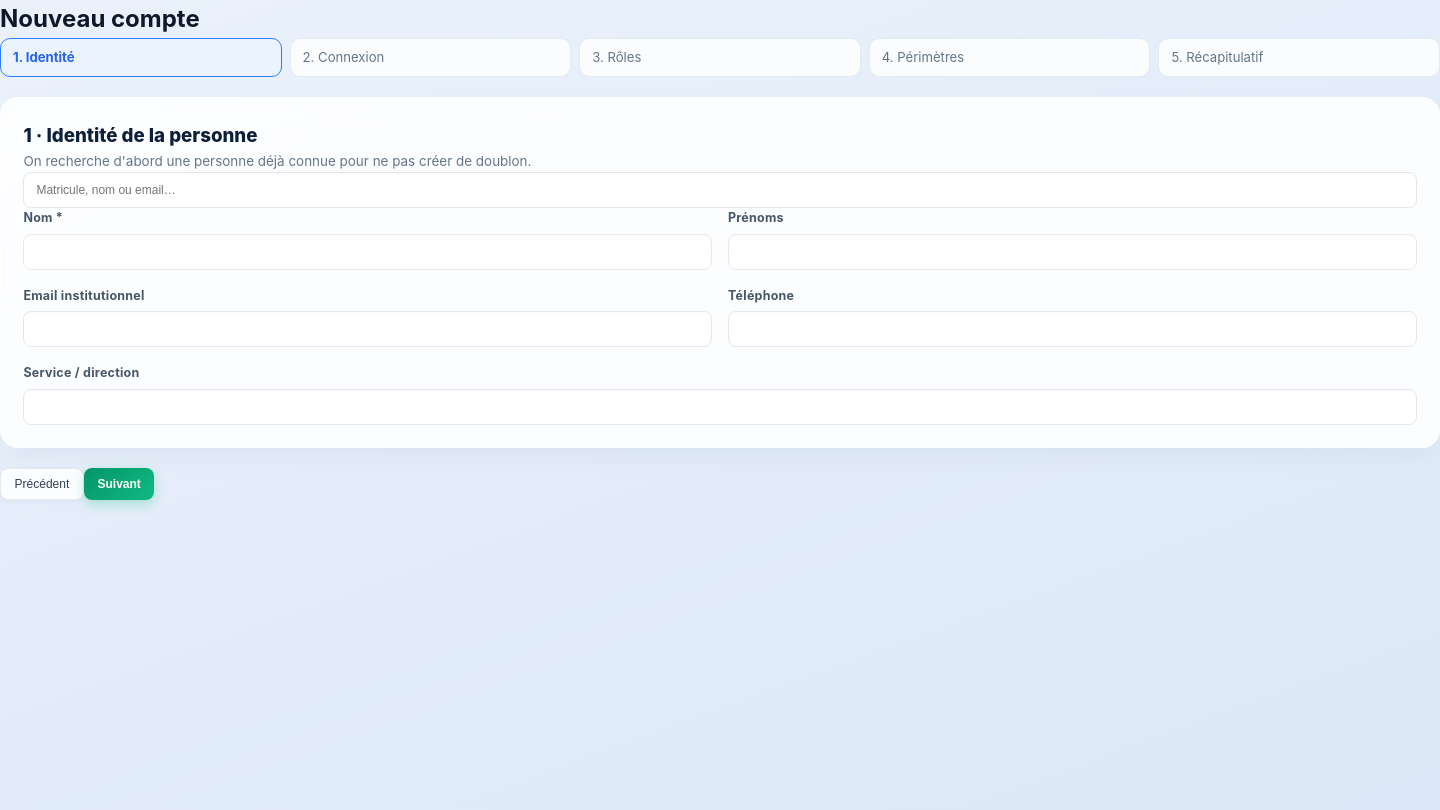
Test: AssistantCreation — 5 étapes › refuse le cumul de rôles incompatibles (séparation des tâches)
Step 1. Type "X" into the field with test id "input-nom" → (368, 252), box [23, 234, 712, 270]
Step 2. Click the button with test id "bouton-suivant" → (119, 484), box [84, 468, 154, 500]
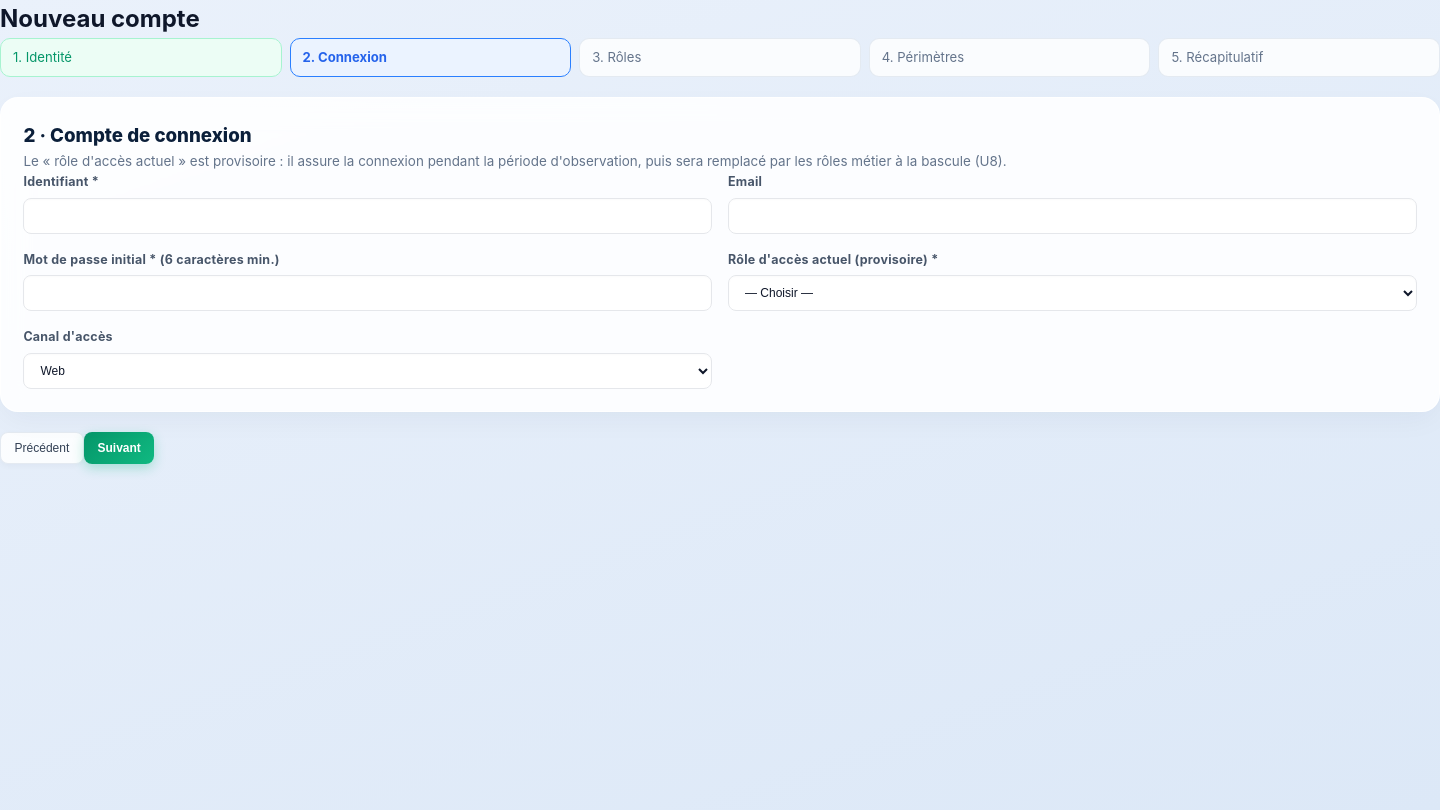
Step 3. Type "u1" into the field with test id "input-username" → (368, 216), box [23, 198, 712, 234]
Step 4. Type "secret123" into the password field with test id "input-mdp" → (368, 293), box [23, 275, 712, 311]
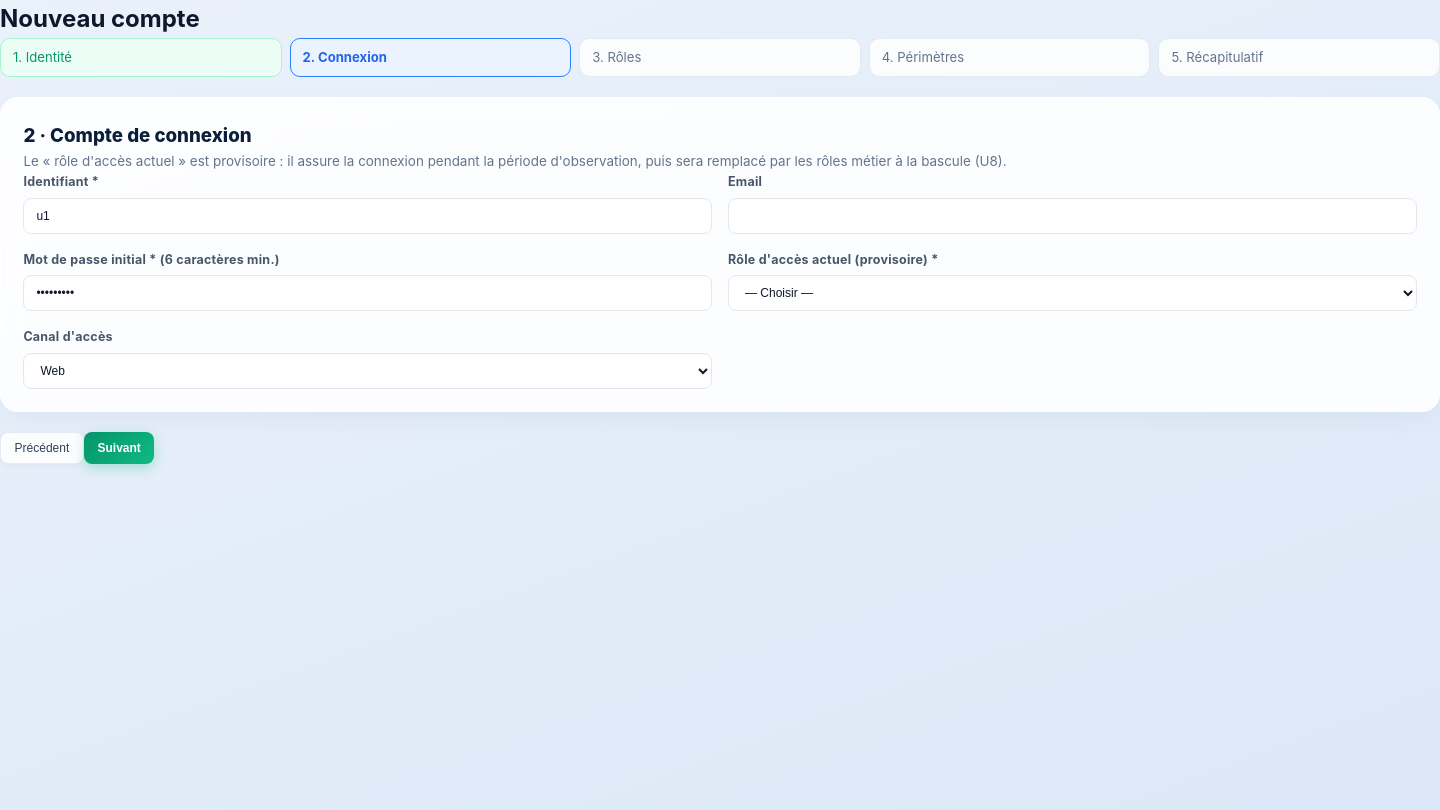
Step 5. Select "Administrateur" in the dropdown with test id "select-role-legacy" → (1072, 293), box [728, 275, 1417, 311]
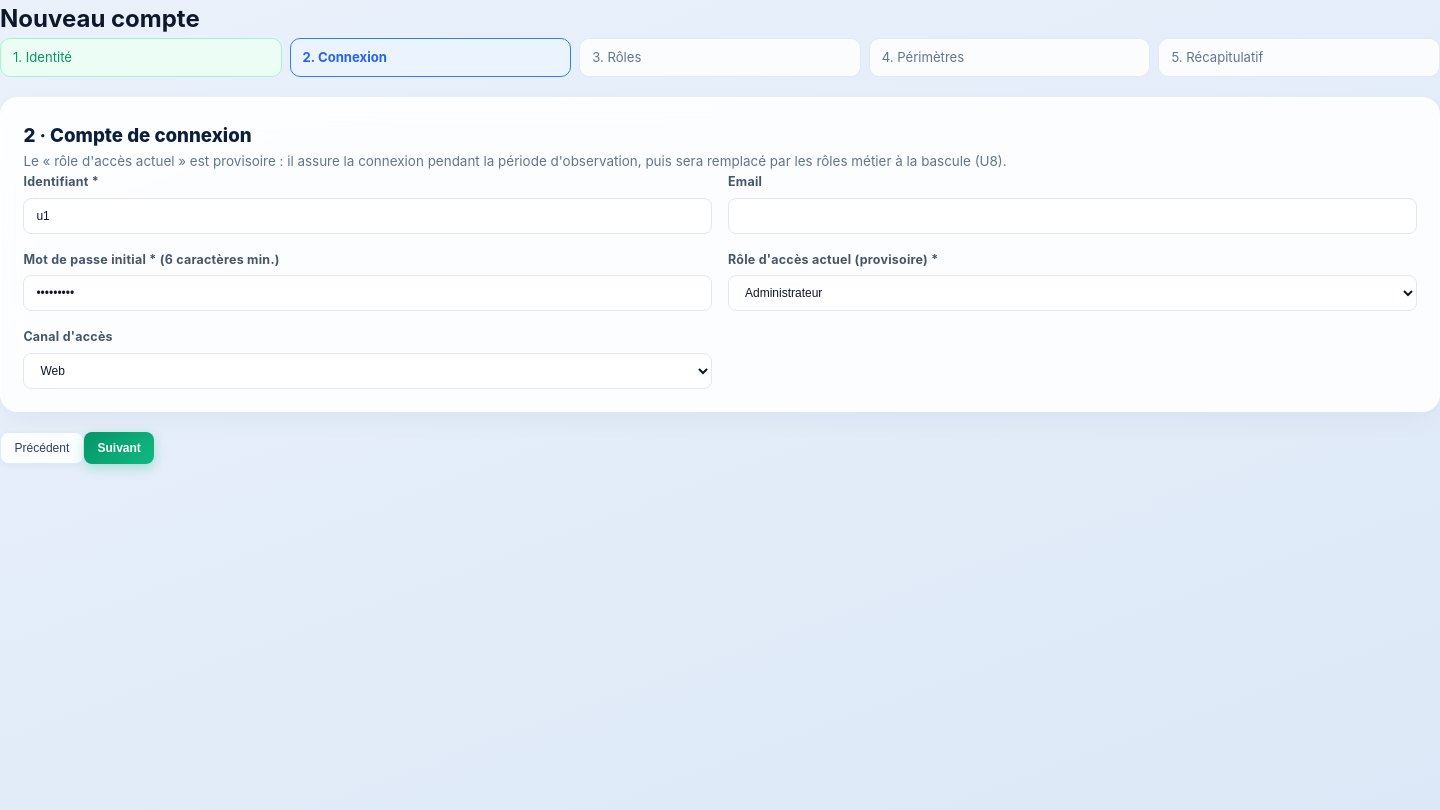
Step 6. Click the button with test id "bouton-suivant" → (119, 448), box [84, 432, 154, 464]
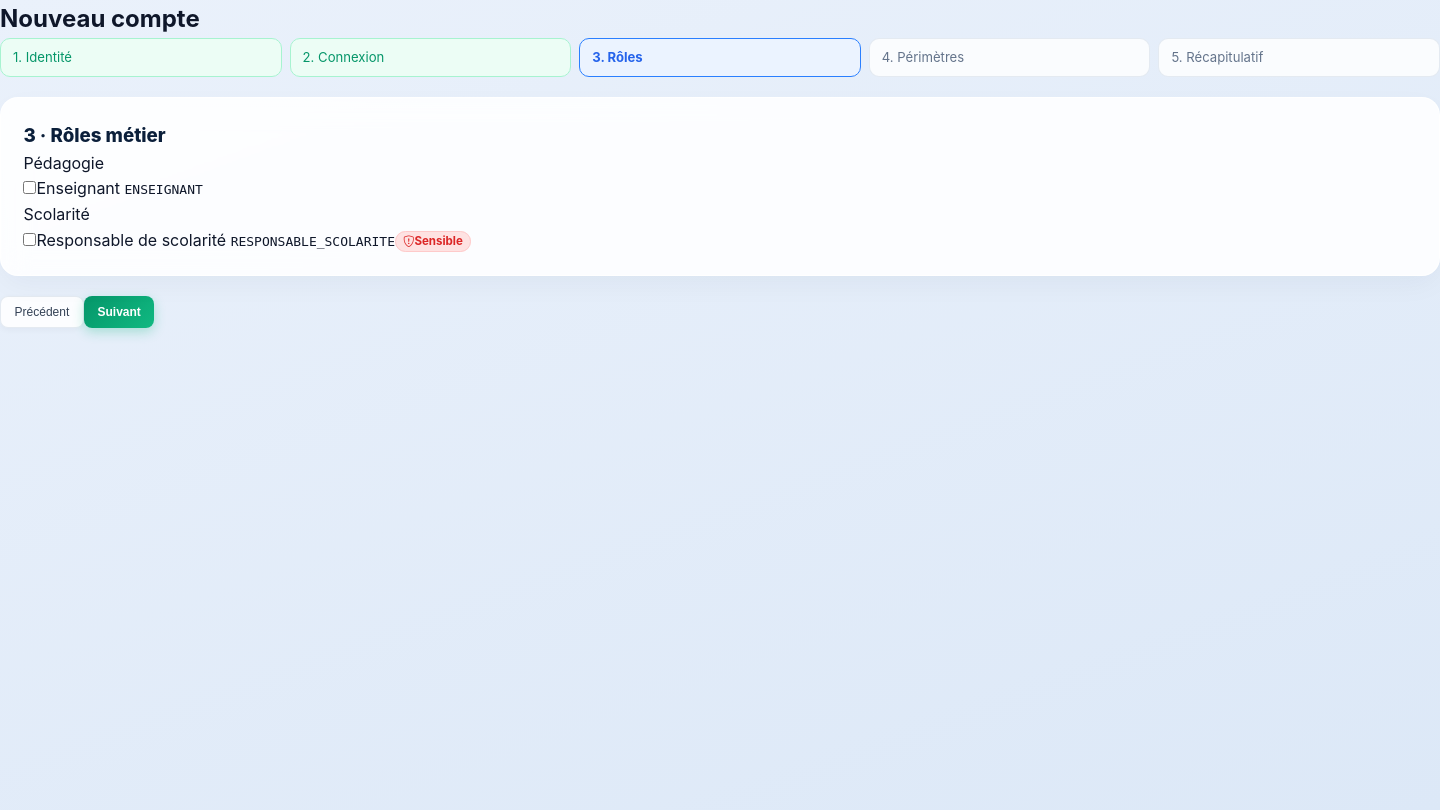
Now the element with test id "etape-roles" is shown, box [23, 124, 471, 252]
Step 7. Click the checkbox with test id "role-ENSEIGNANT" → (30, 188), box [23, 181, 36, 194]
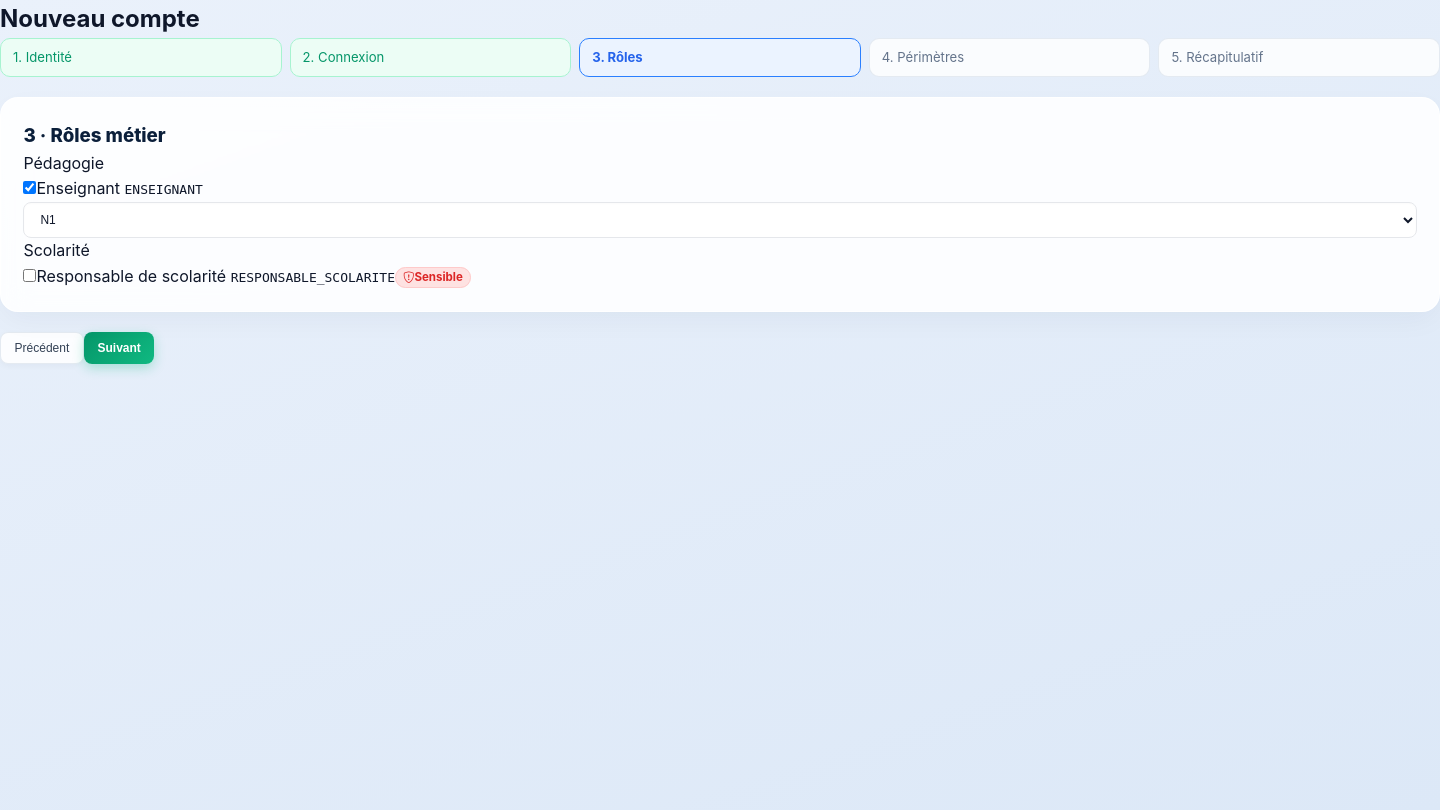
Step 8. Click the checkbox with test id "role-RESPONSABLE_SCOLARITE" → (30, 275), box [23, 268, 36, 282]
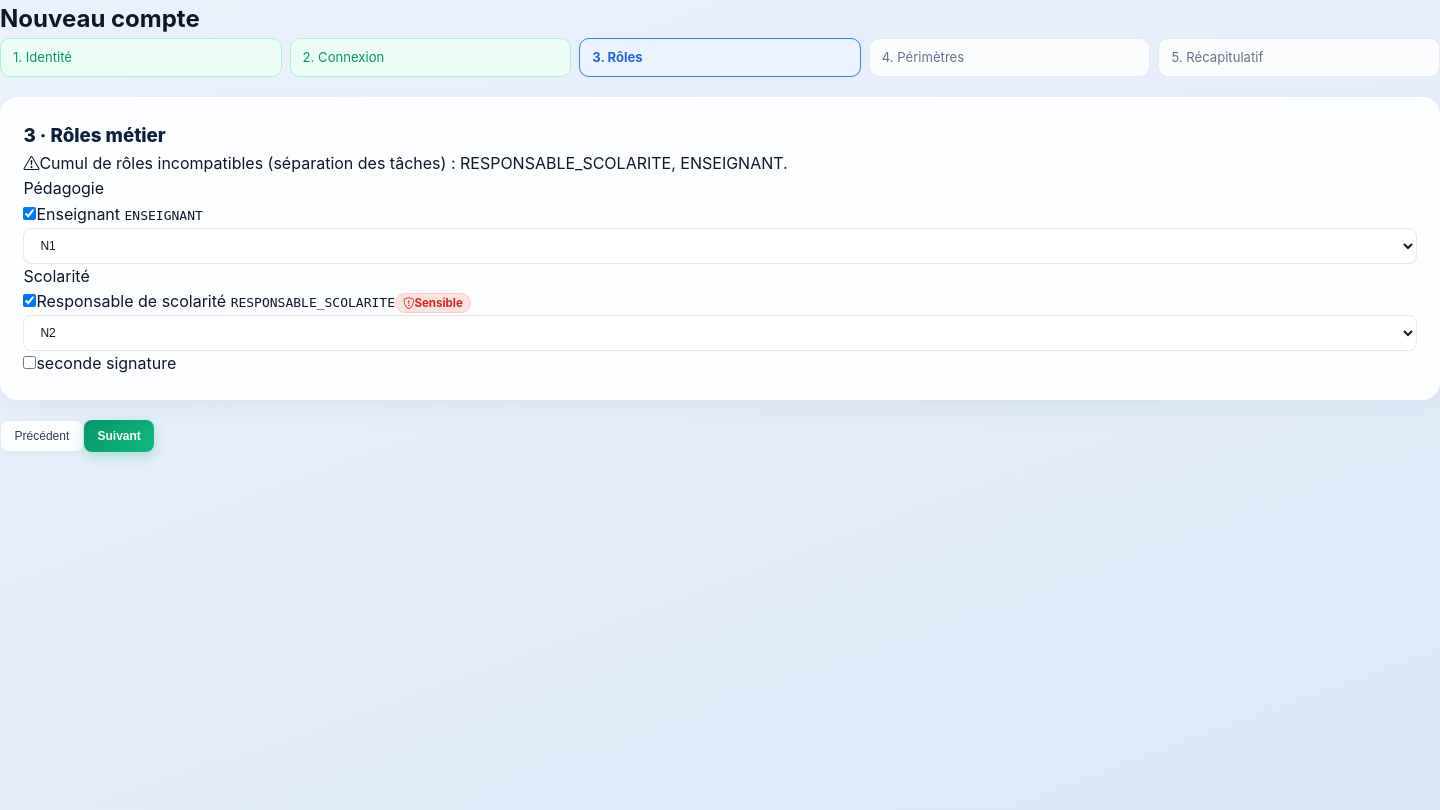
Now the element with test id "incompatibilite" is shown, box [23, 153, 788, 173]
Now the button with test id "bouton-suivant" is disabled, box [84, 420, 154, 452]
